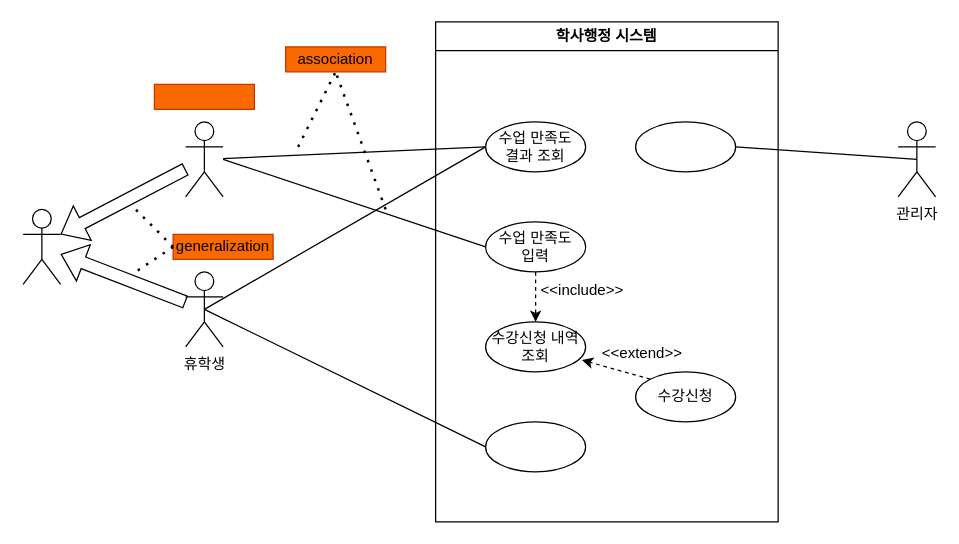
The diagram is 959 pixels wide and 544 high, and some of its shapes have lost their labels. The centre of each missing label's shape, as x and y in pixels:
"actor" belongs at pixel 203 96.
"복학" belongs at pixel 535 446.
"재학생" belongs at pixel 203 159.
"학부생" belongs at pixel 41 246.
"학생관리" belongs at pixel 685 146.
